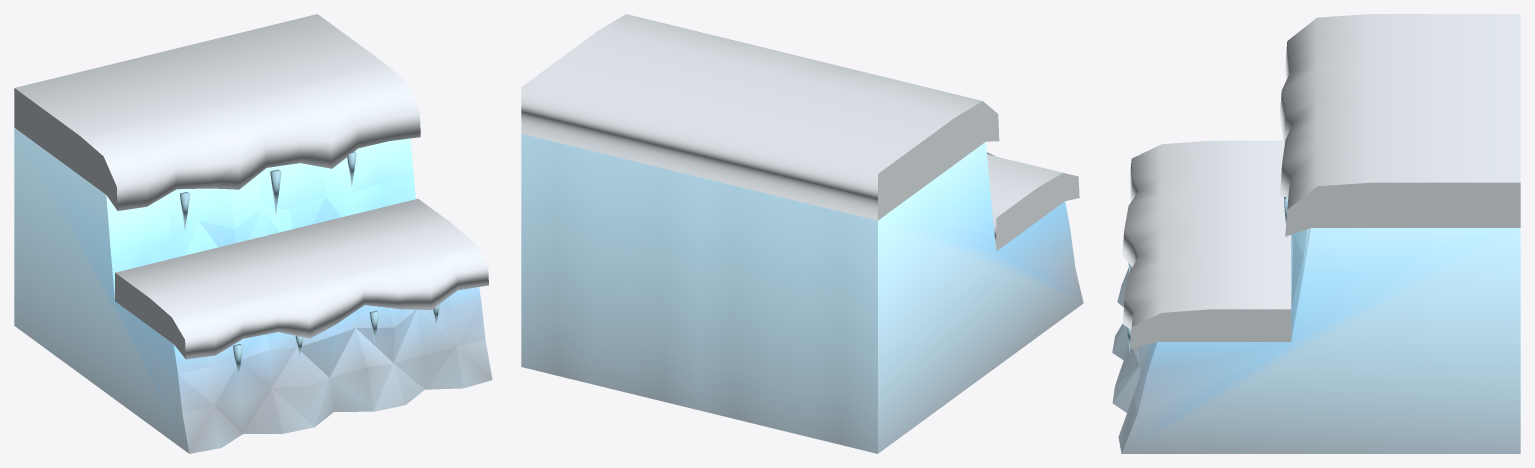
Rendered from Env_Cliff_Stepped.glb.
3 views of the same model, side by side, from view 1: azimuth 30°, elevation 25°; view 2: azimuth 150°, elevation 25°; view 3: azimuth 270°, elevation 25° (orthographic). The views are drawn at different scales.
Parts seen in each view (by area): view 1: Cliff_Stepped_Wall, Cliff_Stepped_SnowUpper, Cliff_Stepped_SnowLower, Cliff_Stepped_Icicles; view 2: Cliff_Stepped_Wall, Cliff_Stepped_SnowUpper, Cliff_Stepped_SnowLower; view 3: Cliff_Stepped_Wall, Cliff_Stepped_SnowUpper, Cliff_Stepped_SnowLower.
Part boxes in pixels (<box>): Cliff_Stepped_Wall: <box>14,128,492,453</box>; Cliff_Stepped_SnowUpper: <box>14,14,420,210</box>; Cliff_Stepped_SnowLower: <box>115,199,488,359</box>; Cliff_Stepped_Icicles: <box>180,151,439,379</box>; Cliff_Stepped_Wall: <box>521,134,1083,453</box>; Cliff_Stepped_SnowUpper: <box>521,14,999,220</box>; Cliff_Stepped_SnowLower: <box>987,152,1079,251</box>; Cliff_Stepped_Wall: <box>1112,228,1520,453</box>; Cliff_Stepped_SnowUpper: <box>1279,14,1520,236</box>; Cliff_Stepped_SnowLower: <box>1122,140,1291,348</box>.
Bounding box in the file's own units: 2 × 1.5 × 2.05.
